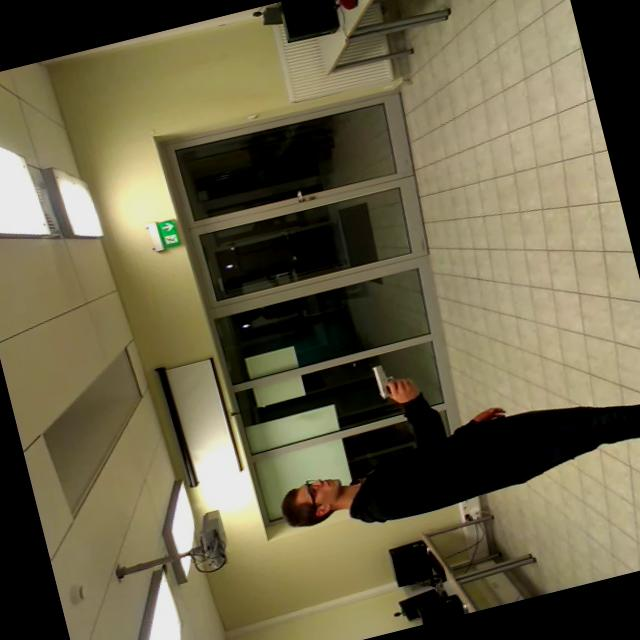handgun: (360, 356, 416, 404)
